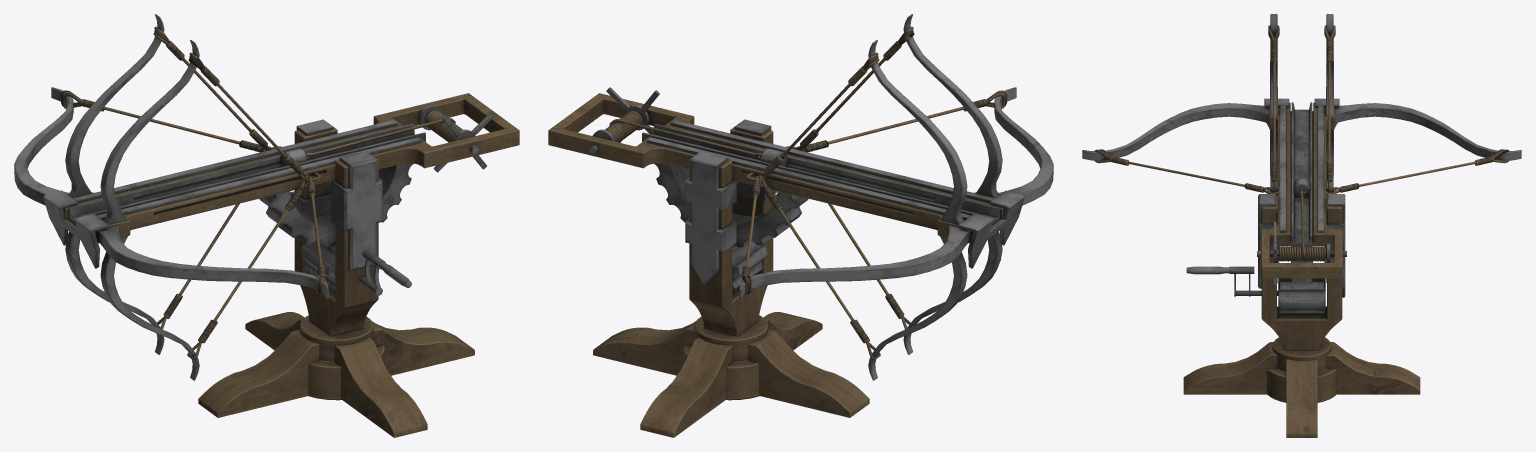
The model's file is SM_Ballista.fbx.
3 renders of one model, left to right at view 1: azimuth 30°, elevation 25°; view 2: azimuth 150°, elevation 25°; view 3: azimuth 270°, elevation 25°, orthographic. The views are drawn at different scales.
Parts seen in each view (by area): view 1: SM_Ballista; view 2: SM_Ballista; view 3: SM_Ballista.
Boxes of the visible parts, box(x1,y1,x2,y2) form: SM_Ballista: box(14, 14, 519, 437); SM_Ballista: box(548, 14, 1053, 437); SM_Ballista: box(1082, 14, 1521, 437).
Size of the model in its own units: 410 by 458 by 358.
